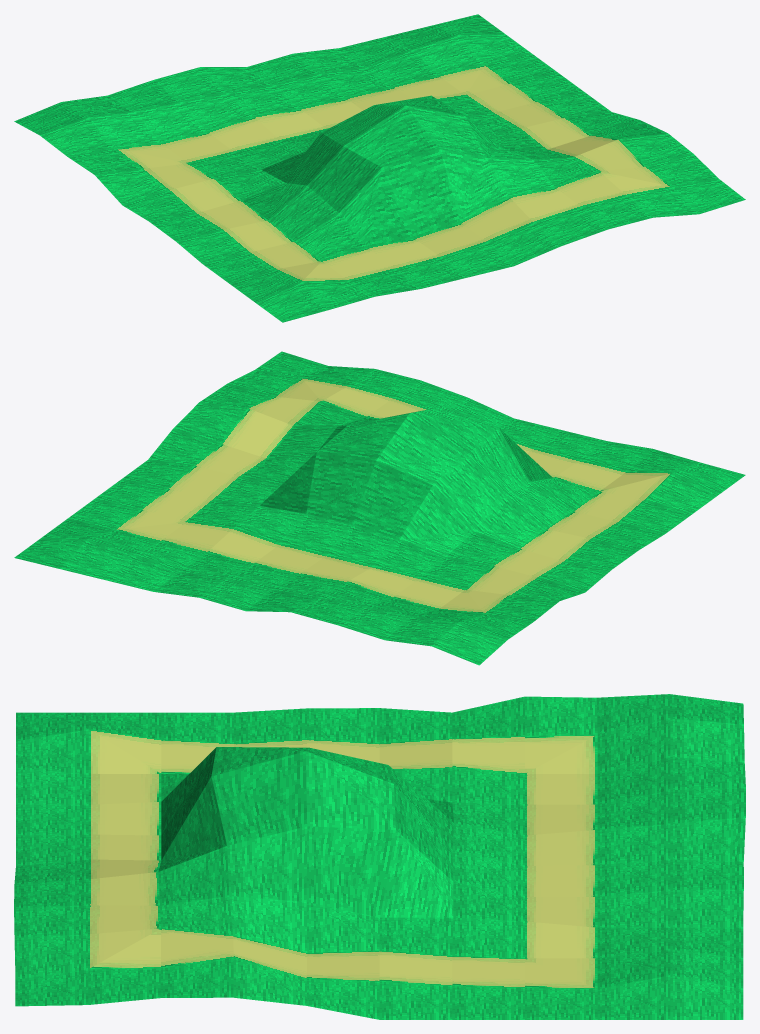
The model's file is proto_planet1.gltf.
The picture shows the model from 3 angles, top to bottom: view 1: azimuth 30°, elevation 25°; view 2: azimuth 150°, elevation 25°; view 3: azimuth 270°, elevation 25°; orthographic projection. The views are drawn at different scales.
Visible parts, largest first — view 1: Grid; view 2: Grid; view 3: Grid.
Part boxes in pixels (left/top/right/bottom): Grid: left=14, top=14, right=745, bottom=322; Grid: left=14, top=351, right=745, bottom=665; Grid: left=14, top=694, right=745, bottom=1019.
Size of the model in its own units: 24.68 by 4.2 by 24.56.
Materials: 2 (2 with a texture image).
